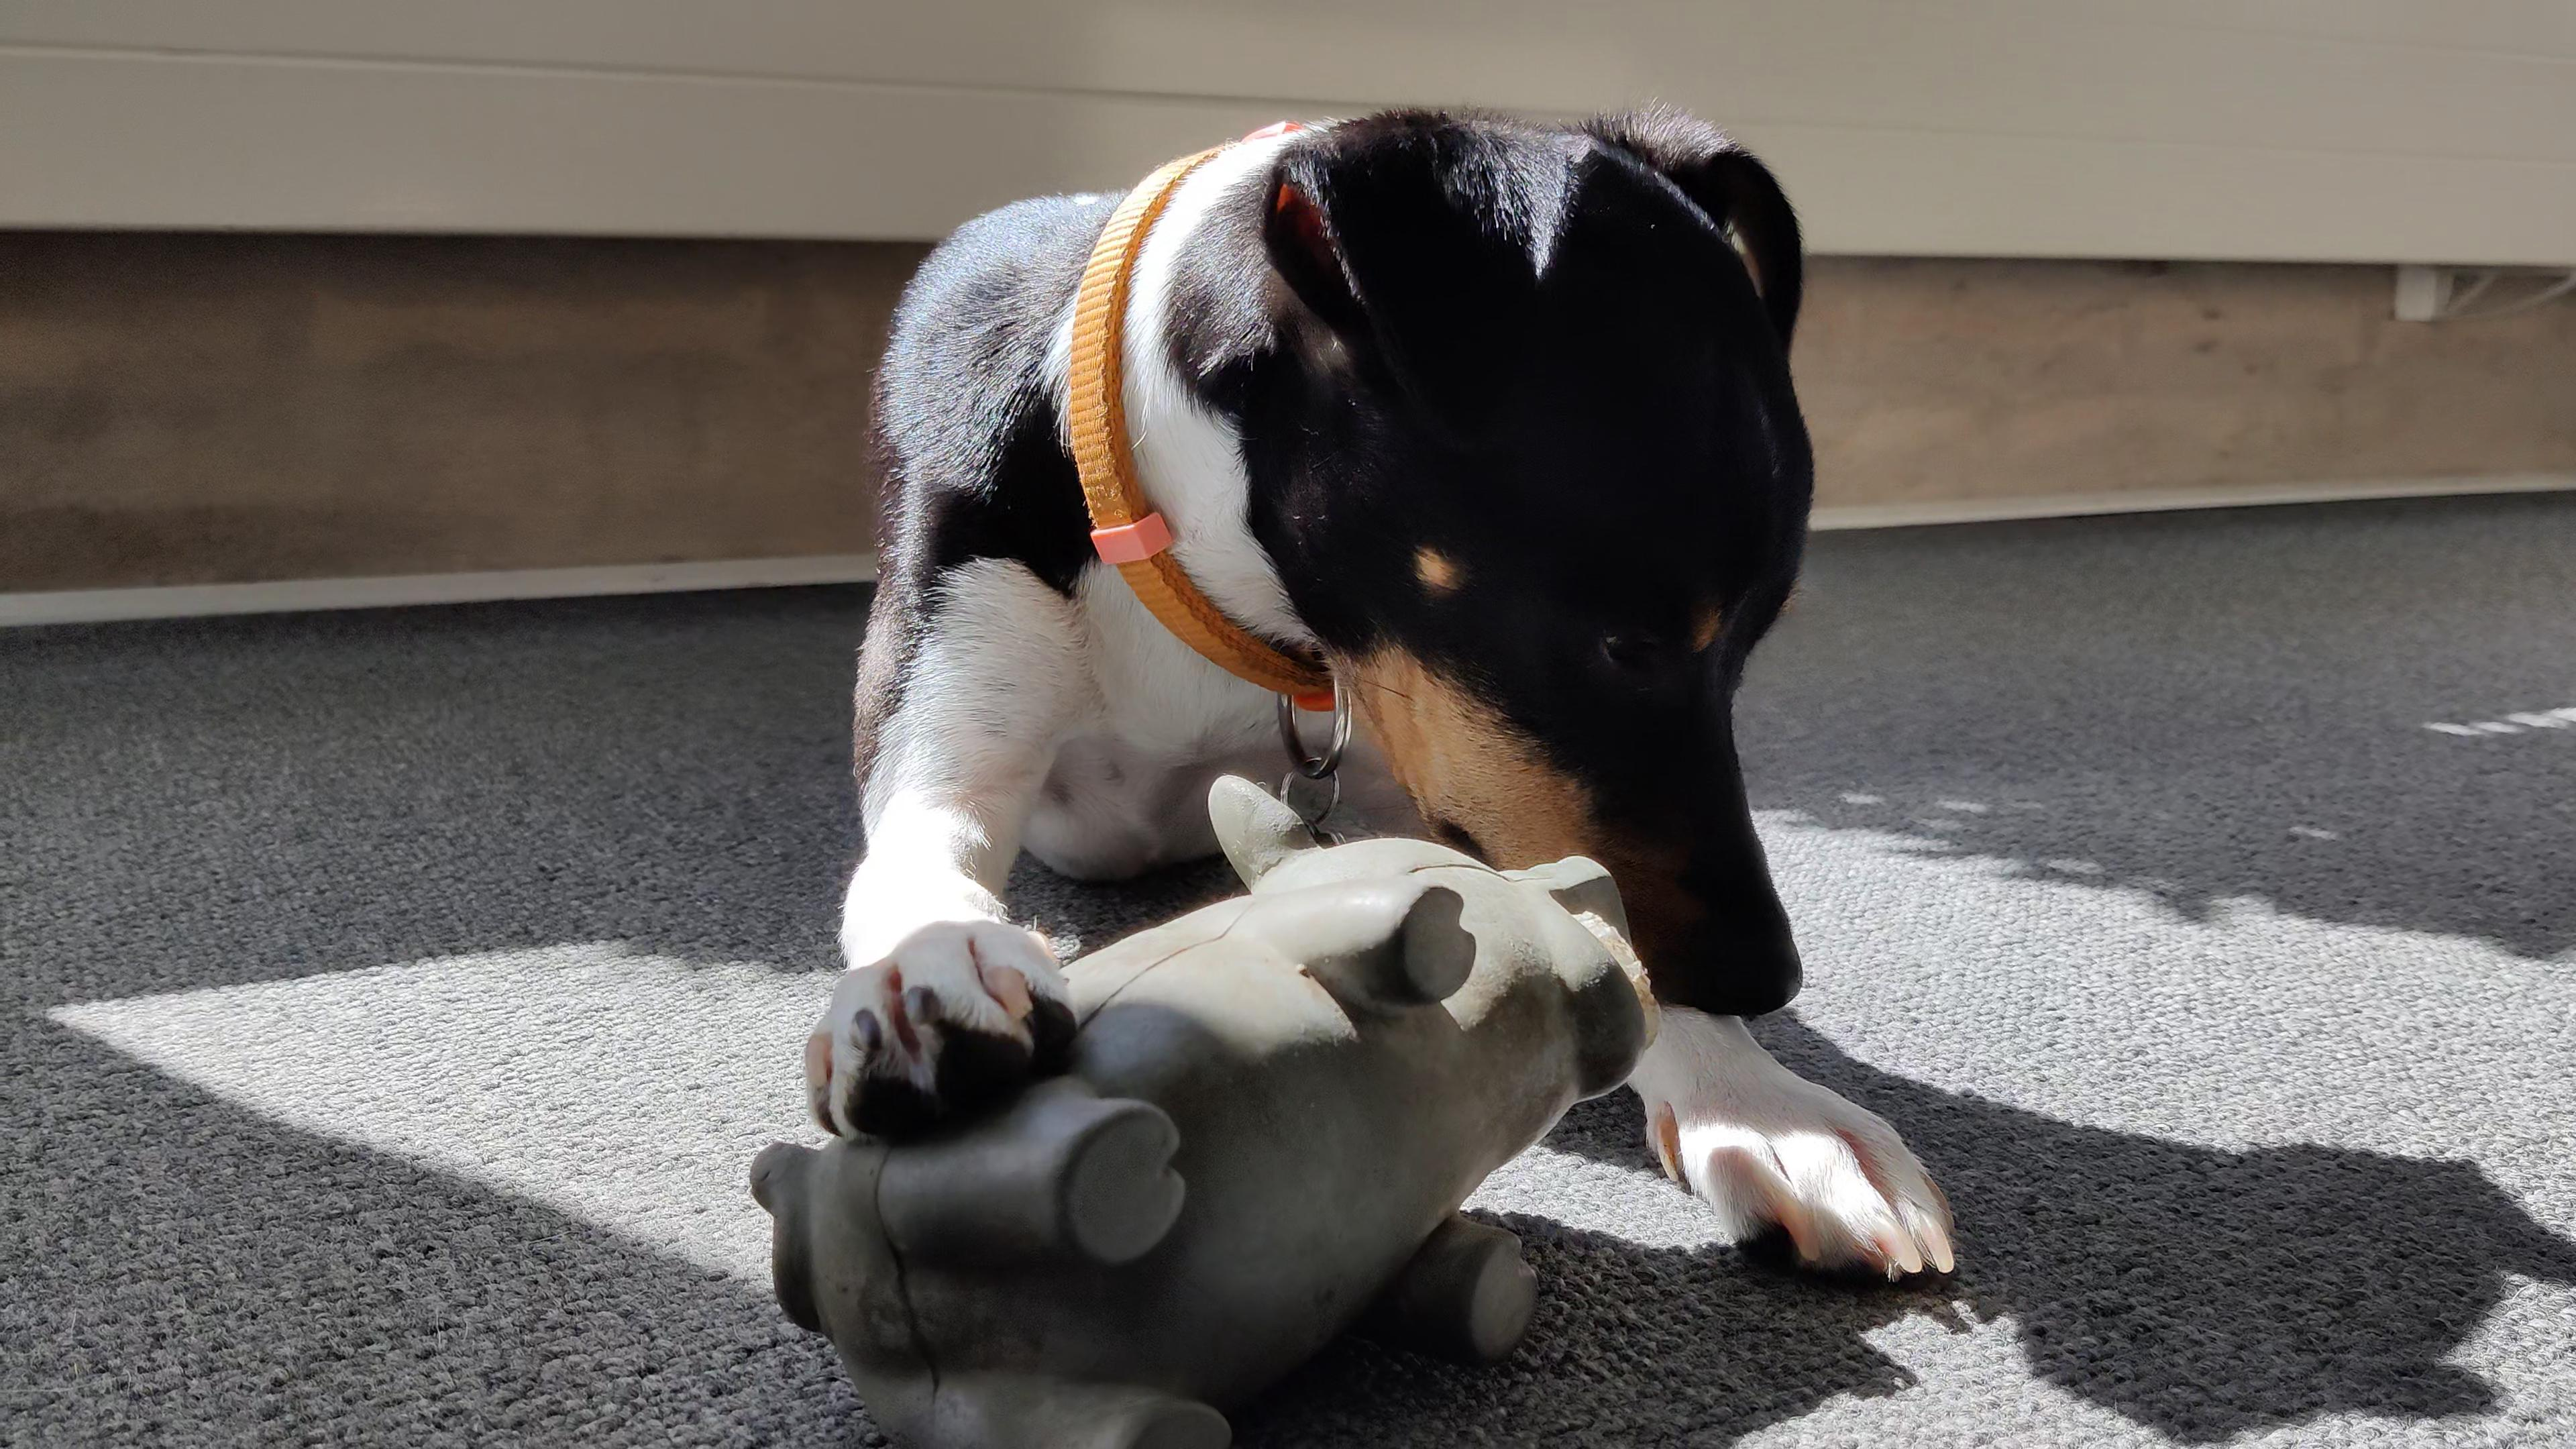Dog: (800, 80, 1974, 1299)
